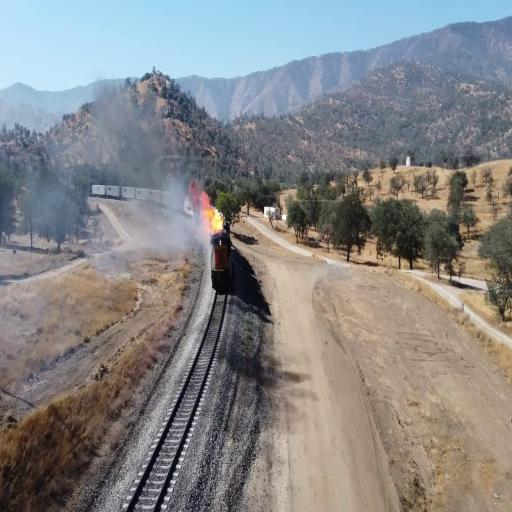fire: (198, 190, 228, 234)
smoke: (152, 163, 188, 257)
